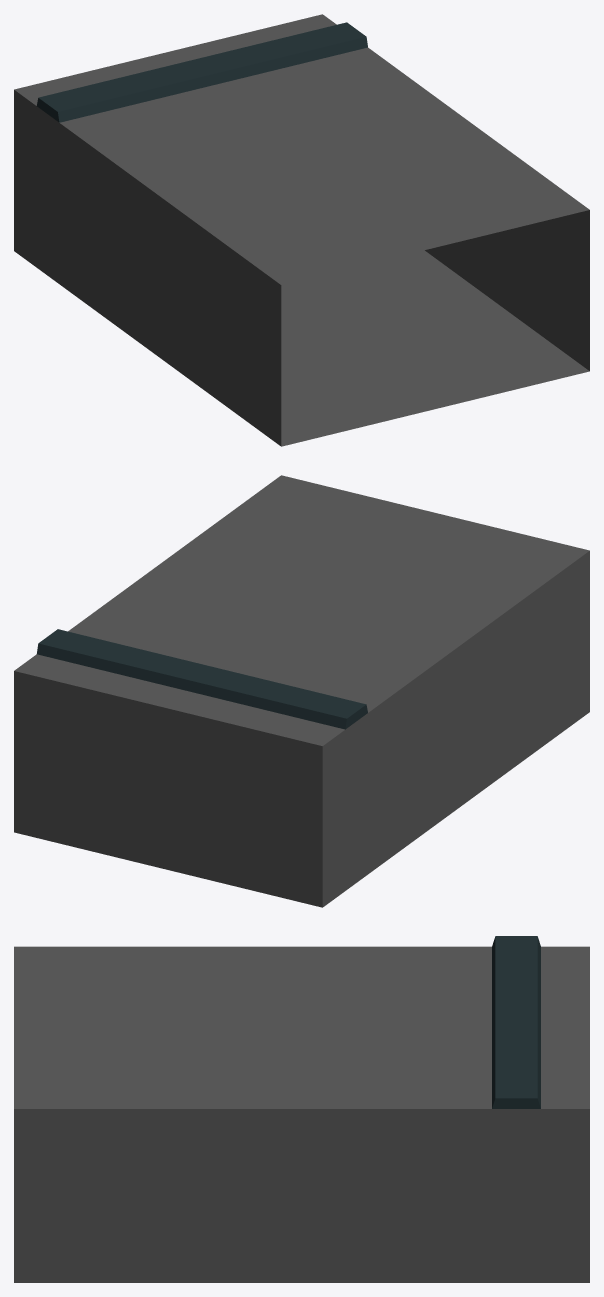
The model's file is SM_platform_2x1.fbx.
3 renders of one model, top to bottom at view 1: azimuth 30°, elevation 25°; view 2: azimuth 150°, elevation 25°; view 3: azimuth 270°, elevation 25°, orthographic. The views are drawn at different scales.
Parts seen in each view (by area): view 1: SM_platform_2x1; view 2: SM_platform_2x1; view 3: SM_platform_2x1.
Part boxes in pixels (box(x1,y1,x2,y2)): SM_platform_2x1: box(14, 14, 589, 446); SM_platform_2x1: box(14, 475, 589, 907); SM_platform_2x1: box(14, 936, 589, 1282).
Size of the model in its own units: 200 by 106 by 300.
Materials: 1 (1 with a texture image).
